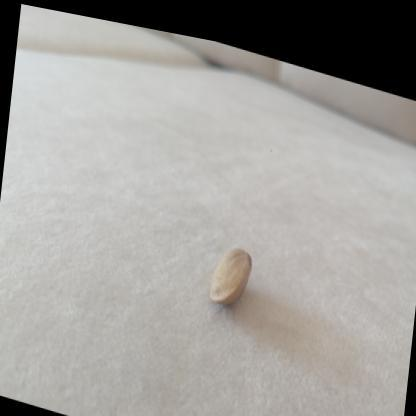pistachio: (205, 240, 260, 310)
